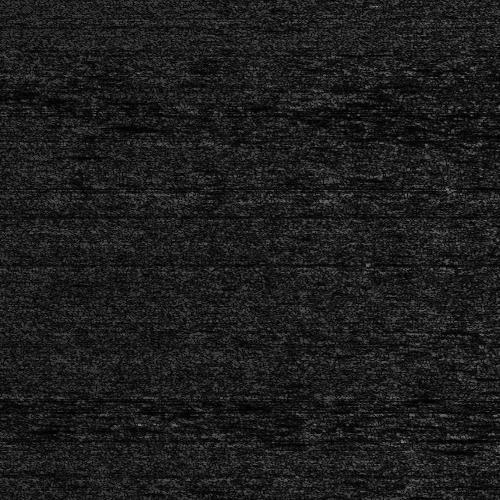object: (57, 122, 120, 129), (219, 496, 282, 500)
shadow: (89, 122, 148, 129), (251, 496, 313, 500), (0, 89, 23, 98)
